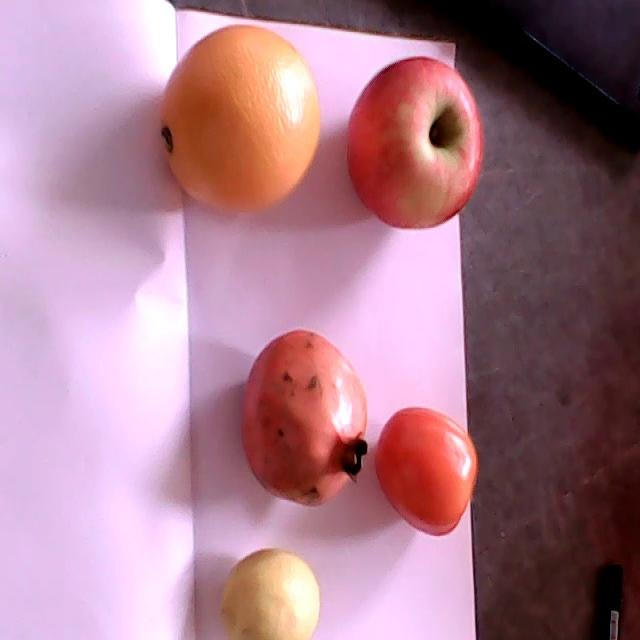apple: (347, 56, 482, 231)
lemon: (219, 548, 320, 639)
orange: (159, 25, 321, 213)
pomegranate: (241, 329, 370, 509)
tomato: (375, 406, 478, 536)
